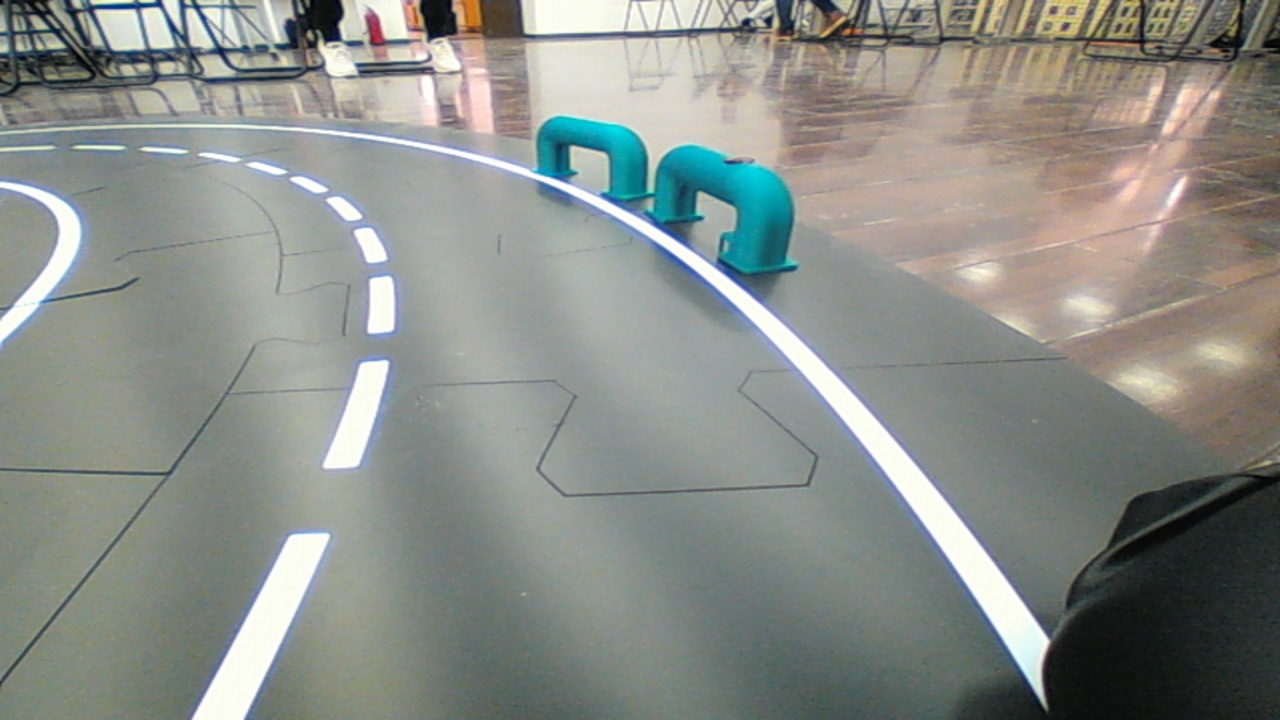No entry: (524, 97, 665, 210)
Pedestrian crossing: (637, 125, 806, 289)
